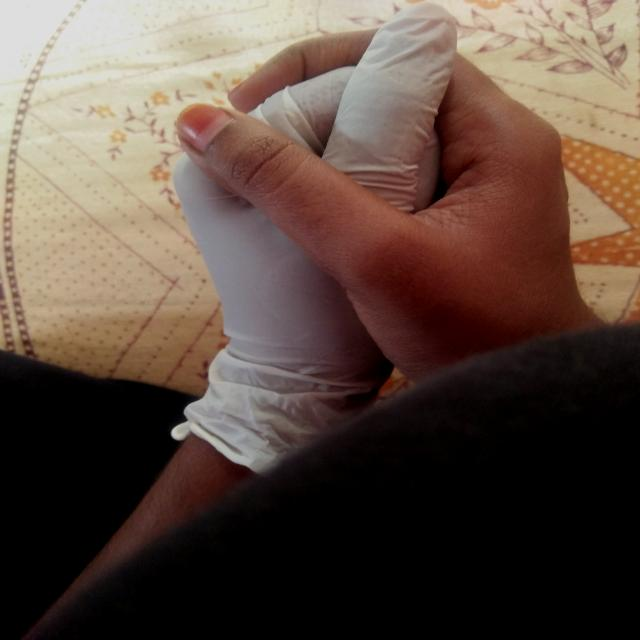glove: (151, 0, 477, 481)
